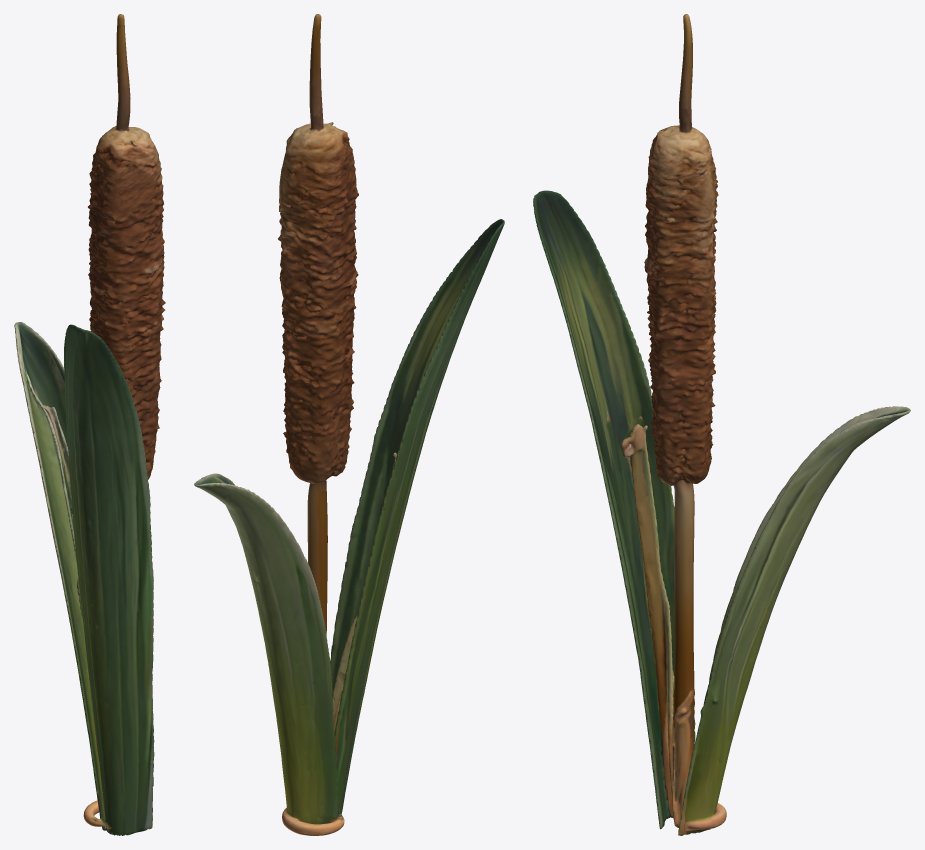
Rendered from nature-cattail.glb.
3 views of the same model, side by side, from view 1: azimuth 30°, elevation 25°; view 2: azimuth 150°, elevation 25°; view 3: azimuth 270°, elevation 25° (orthographic).
Parts seen in each view (by area): view 1: tripo_node_5bb748ca-ba7a-44fa-b5ec-1b4f7288025f; view 2: tripo_node_5bb748ca-ba7a-44fa-b5ec-1b4f7288025f; view 3: tripo_node_5bb748ca-ba7a-44fa-b5ec-1b4f7288025f.
Boxes of the visible parts, bbox=[...] form: tripo_node_5bb748ca-ba7a-44fa-b5ec-1b4f7288025f: bbox=[14, 14, 165, 835]; tripo_node_5bb748ca-ba7a-44fa-b5ec-1b4f7288025f: bbox=[194, 14, 504, 835]; tripo_node_5bb748ca-ba7a-44fa-b5ec-1b4f7288025f: bbox=[533, 14, 910, 835].
Bounding box in the file's own units: 0.3496 × 1.8 × 0.7603.
Materials: 1 (1 with a texture image).
